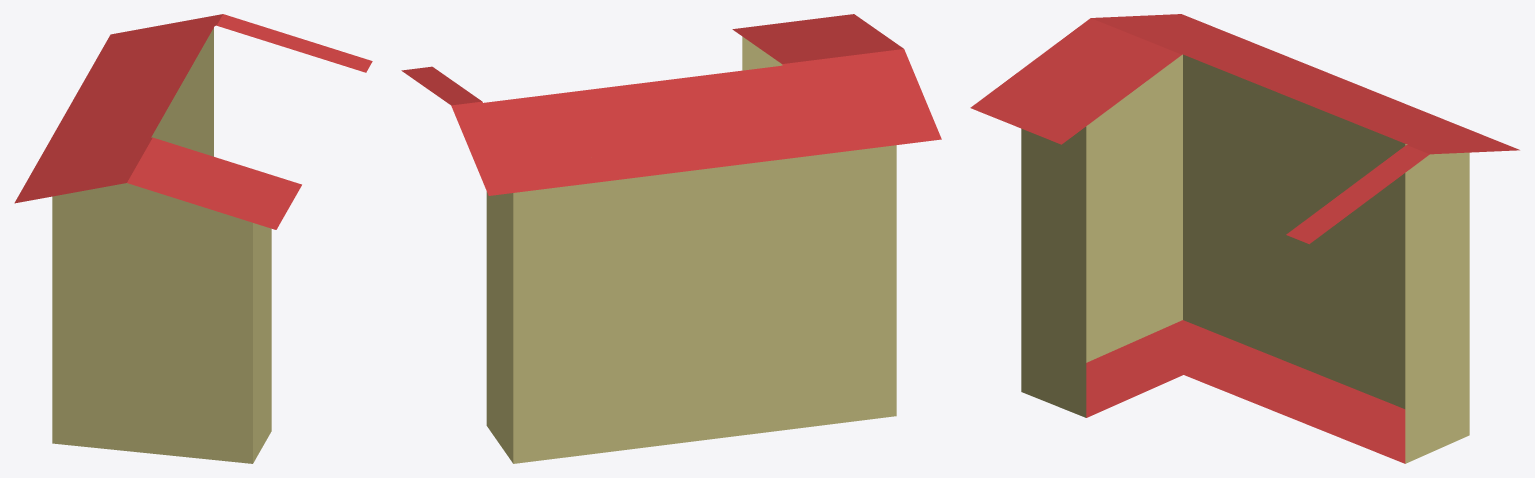
3 renders of one model, left to right at view 1: azimuth 30°, elevation 25°; view 2: azimuth 150°, elevation 25°; view 3: azimuth 270°, elevation 25°, orthographic. The views are drawn at different scales.
Parts seen in each view (by area): view 1: group_5, group_3, group_4; view 2: group_5, group_3, group_4; view 3: group_5, group_3, group_6, group_4.
Part boxes in pixels (bbox=[...]): group_5: bbox=[52, 28, 271, 463]; group_3: bbox=[14, 14, 372, 229]; group_4: bbox=[144, 15, 368, 205]; group_5: bbox=[486, 36, 896, 463]; group_3: bbox=[401, 14, 941, 195]; group_4: bbox=[404, 26, 817, 164]; group_5: bbox=[1021, 54, 1469, 463]; group_3: bbox=[970, 14, 1519, 244]; group_6: bbox=[1086, 320, 1405, 463]; group_4: bbox=[1022, 100, 1466, 242].
Bounding box in the file's own units: 15.1 × 15.26 × 9.81.
